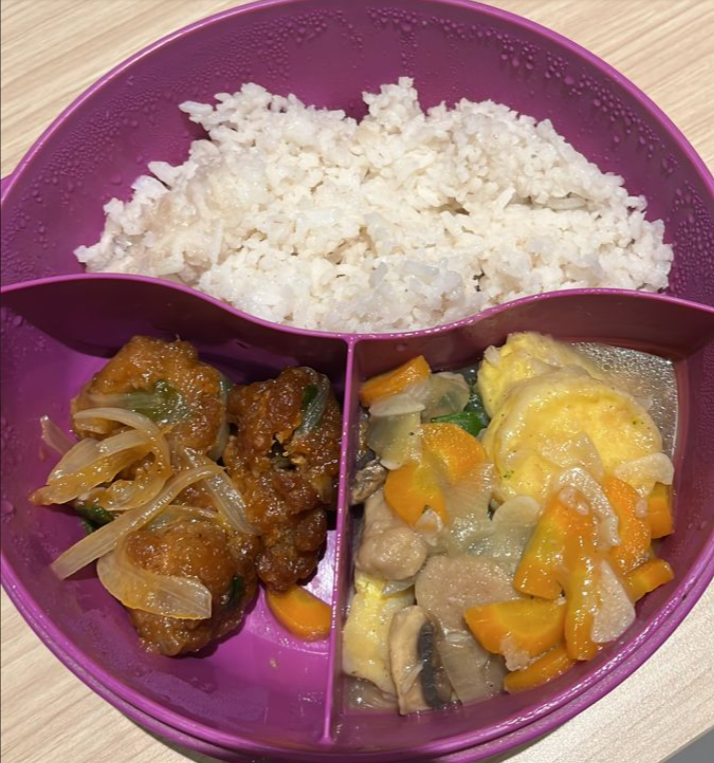buah_sayur_vitA: (379, 379, 643, 645)
daging: (115, 362, 309, 566)
makanan_berpati: (223, 122, 525, 295)
